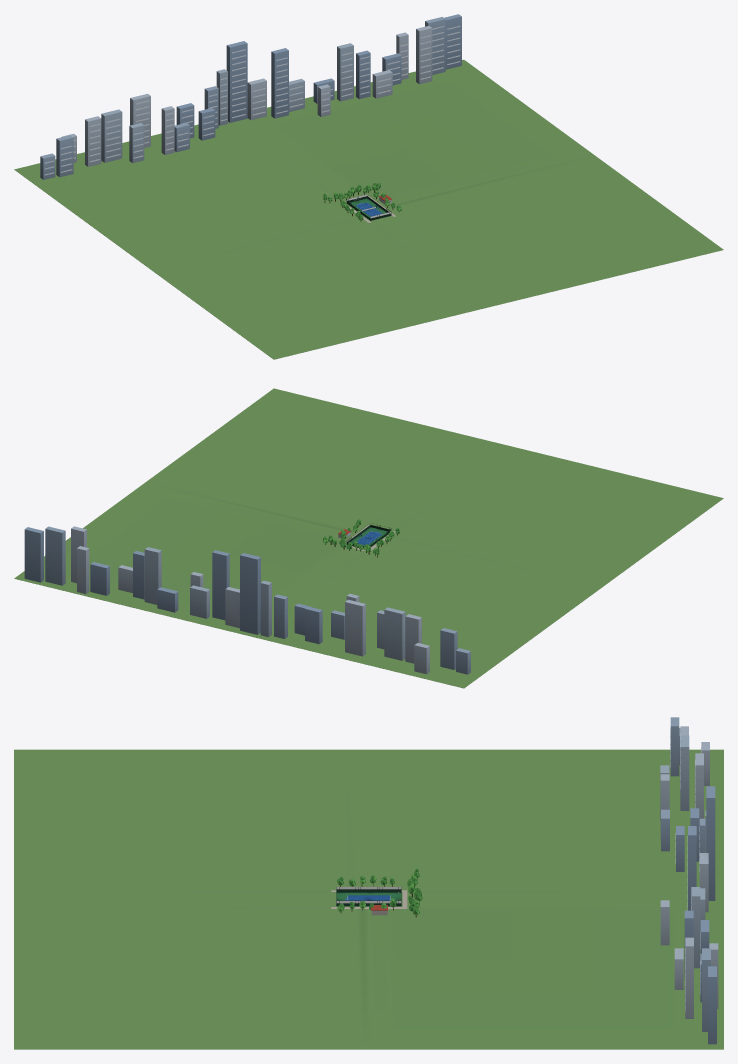
The model's file is tennis-s2vrZjzK.glb.
The picture shows the model from 3 angles, top to bottom: view 1: azimuth 30°, elevation 25°; view 2: azimuth 150°, elevation 25°; view 3: azimuth 270°, elevation 25°; orthographic projection. The views are drawn at different scales.
Visible parts, largest first — view 1: arena, arena_glow; view 2: arena; view 3: arena.
Boxes of the visible parts, x1,y1,x2,y2 form: arena: (14, 14, 723, 359); arena_glow: (44, 26, 460, 202); arena: (14, 388, 723, 688); arena: (14, 717, 723, 1049).
Bounding box in the file's own units: 400 × 64.12 × 400.
